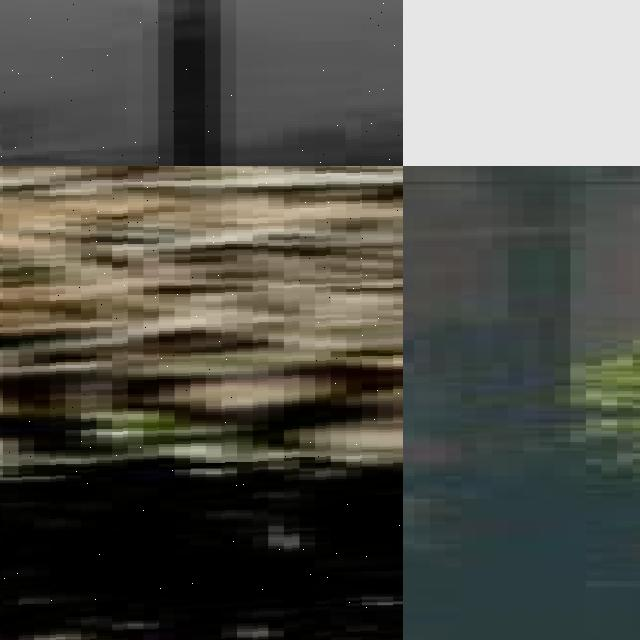street light: (0, 166, 403, 640), (0, 0, 403, 166)
